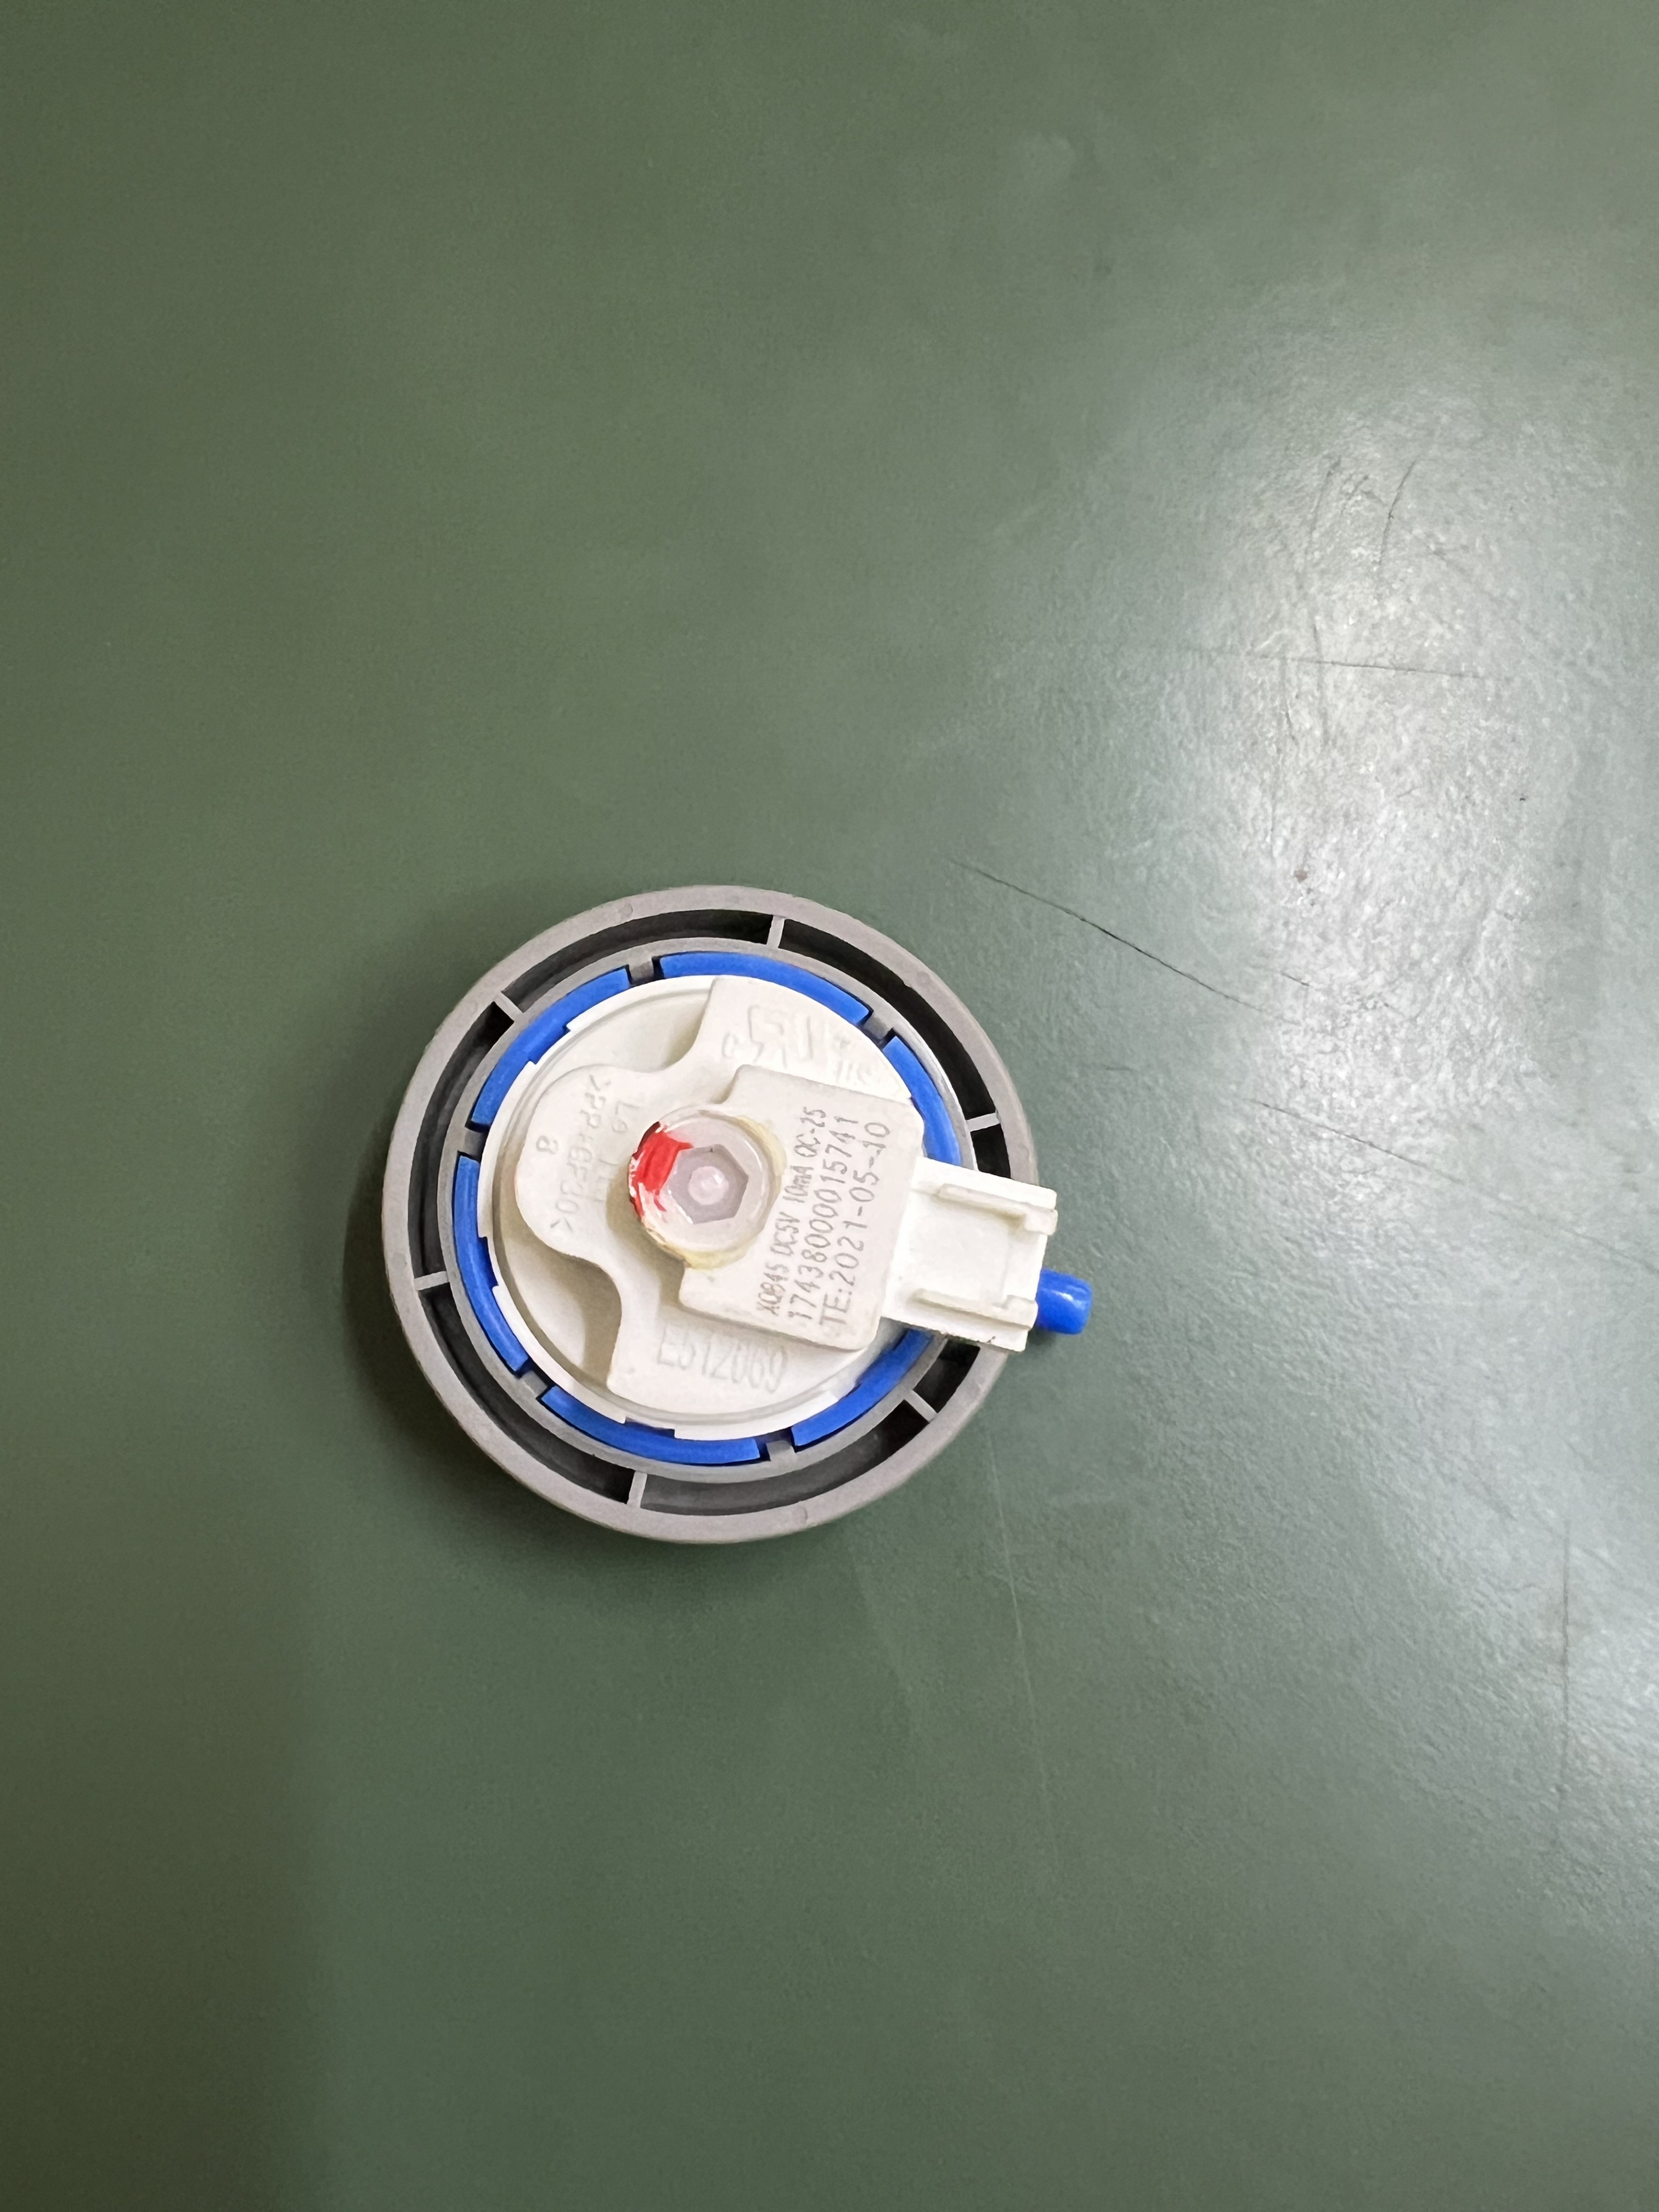pressure_sensor: (376, 867, 1077, 1573)
